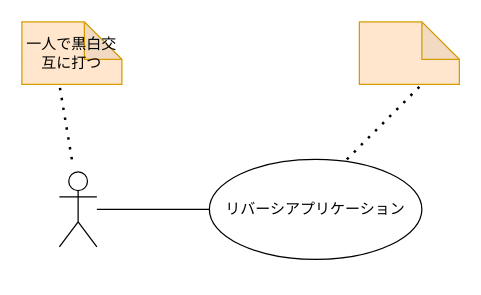
Some shapes in this 481 by 295 pixel diagram are drawn without their labels. The centre of each missing label's shape, as x and y in pixels:
"Webアプリ" goes at point 408,52.
"プレイヤー" goes at point 77,209.
